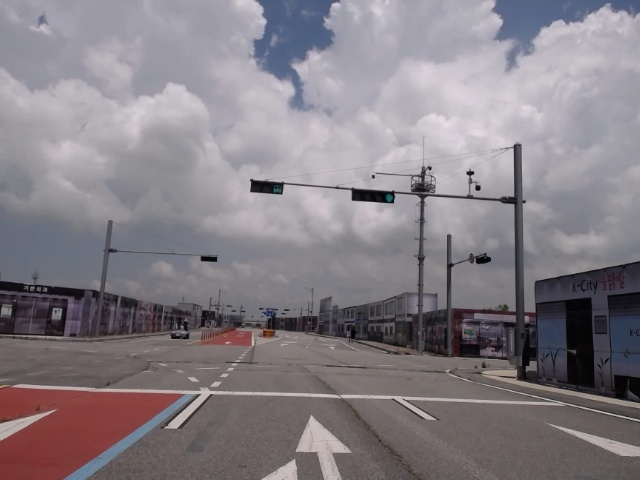straight_green_4: (353, 190, 396, 203)
